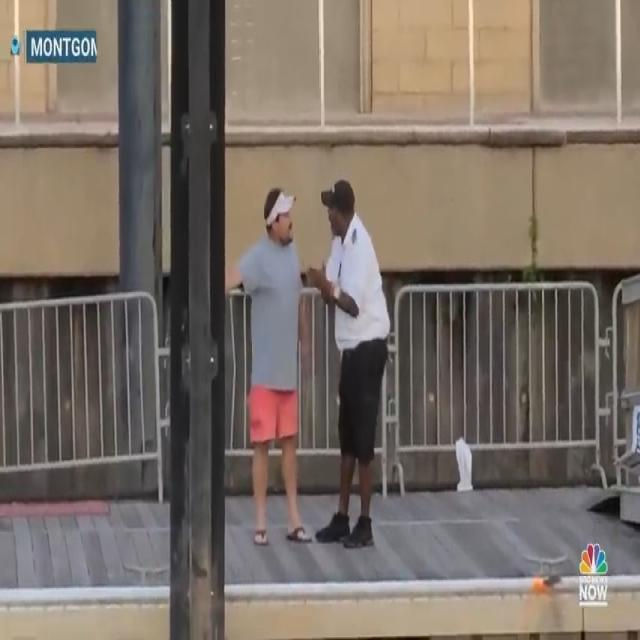non-fight: (226, 171, 397, 560)
